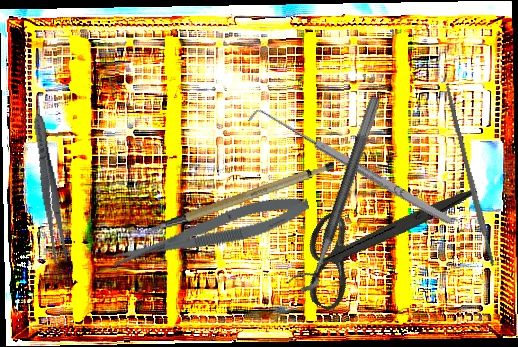Dressing Forceps: (28, 112, 71, 265)
Fixation Ring: (286, 89, 383, 298)
Hook Surgical: (246, 101, 455, 235)
Iris Scissors: (282, 130, 478, 346)
Micro Scissor: (107, 188, 313, 274)
Scalpel Handle: (140, 158, 340, 235), (443, 85, 496, 267)
